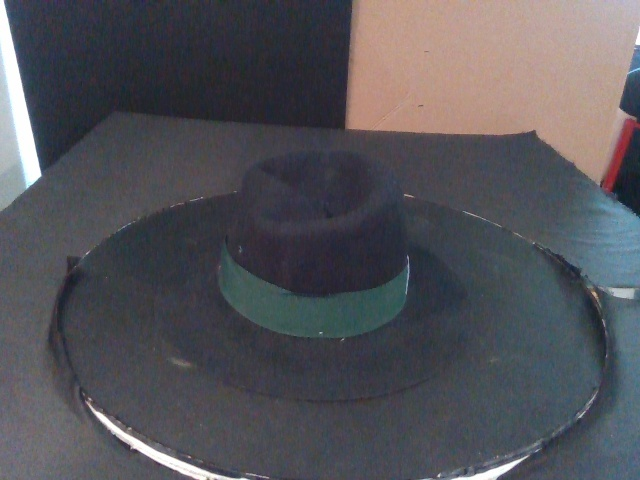hat: (154, 152, 473, 400)
